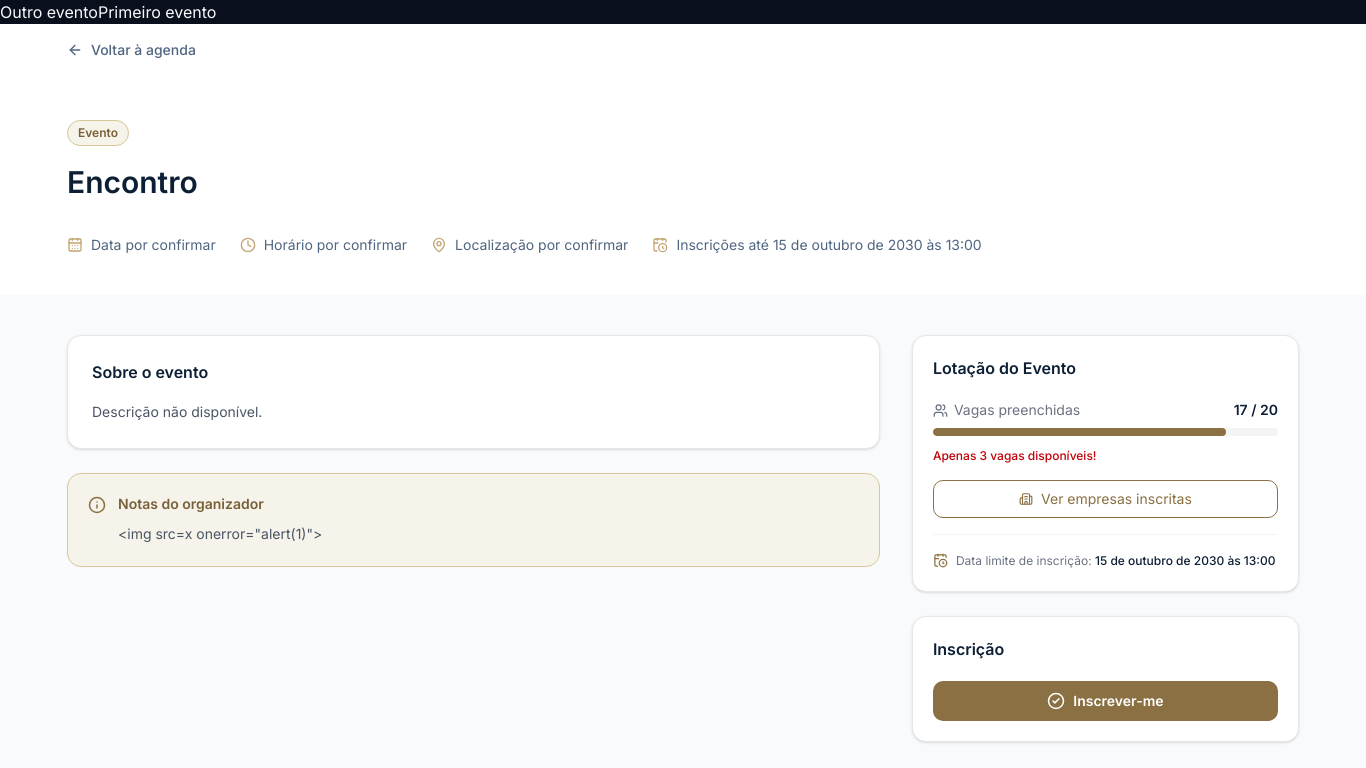
Test: Inscrição no detalhe do evento › omite campos opcionais ausentes no resumo e apresenta HTML apenas como texto
Click the button "Inscrever-me" at [1105, 701], box [933,681,1278,721]
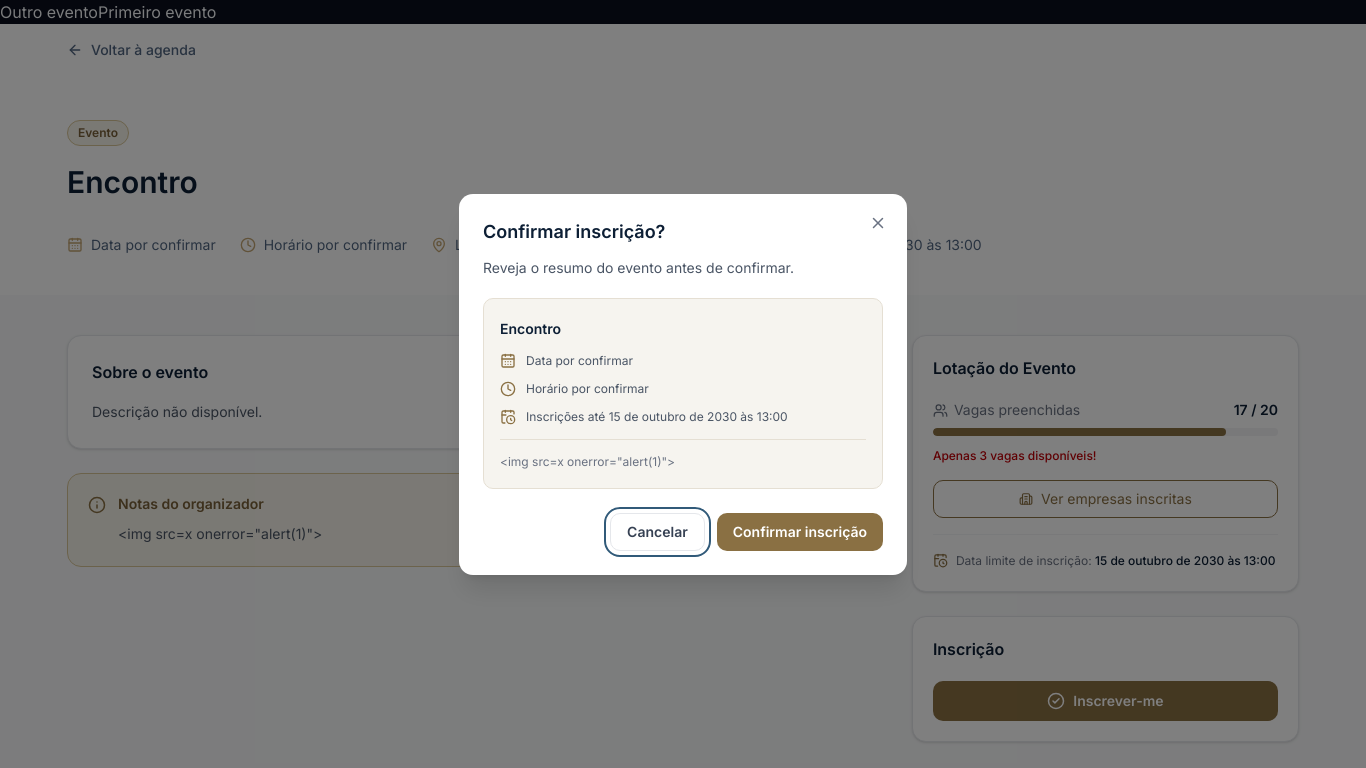
Now the text "<img src=x onerror=\"alert(1)\">" is shown, box [500,438,866,472]
